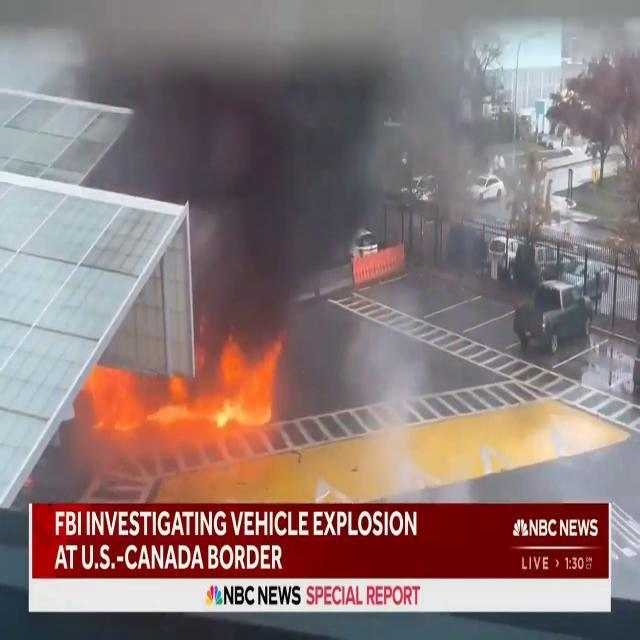Fire: (78, 332, 290, 497)
Smoke: (46, 0, 533, 365)
